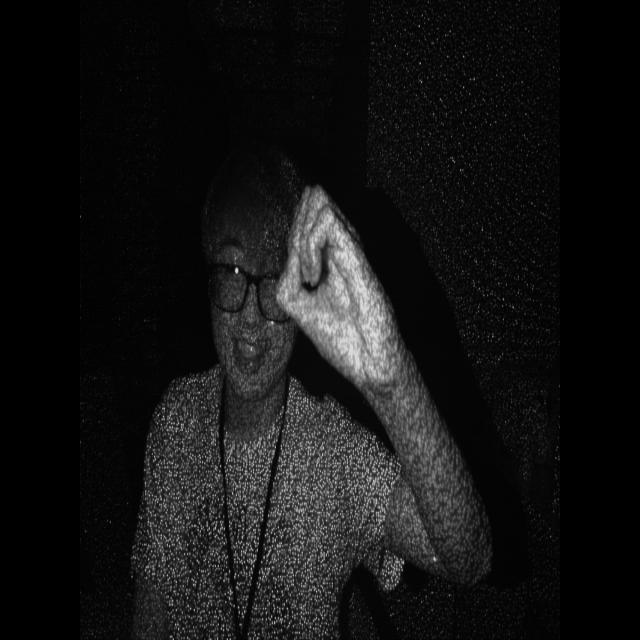O: (266, 152, 386, 404)
